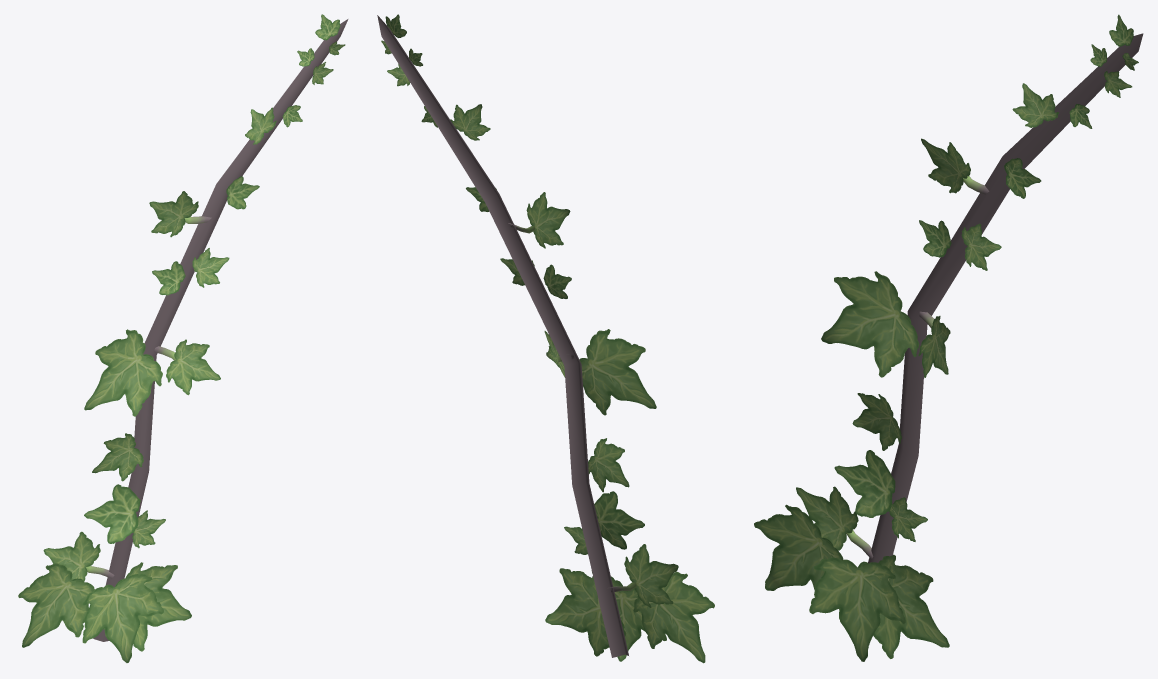
File: IvyBushVine.fbx
The picture shows the model from 3 angles, left to right: view 1: azimuth 30°, elevation 25°; view 2: azimuth 150°, elevation 25°; view 3: azimuth 330°, elevation 25°; orthographic projection. The views are drawn at different scales.
Parts seen in each view (by area): view 1: IvySingleBush; view 2: IvySingleBush; view 3: IvySingleBush.
Boxes of the visible parts, box(x1,y1,x2,y2) form: IvySingleBush: box(18, 14, 348, 662); IvySingleBush: box(377, 14, 714, 663); IvySingleBush: box(754, 14, 1143, 661).
Bounding box in the file's own units: 96.13 × 163 × 13.98.
1 material, 1 textured.
